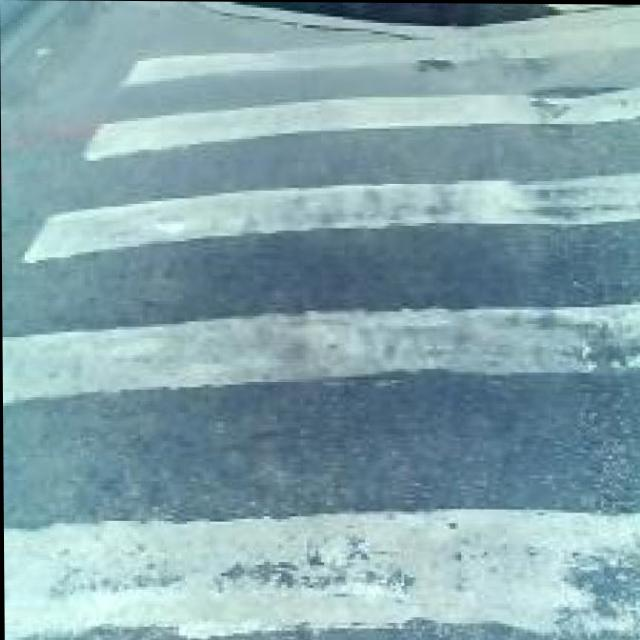zebra: (135, 41, 640, 640)
